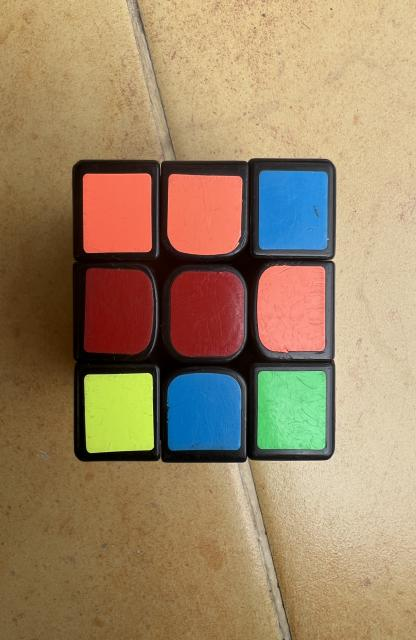Blue: (167, 372, 242, 451), (259, 170, 328, 250)
Green: (257, 370, 326, 450)
Orange: (167, 174, 243, 255), (257, 265, 325, 352), (82, 174, 152, 252)
Red: (170, 271, 245, 356), (83, 269, 154, 354)
Yellow: (84, 372, 154, 452)
